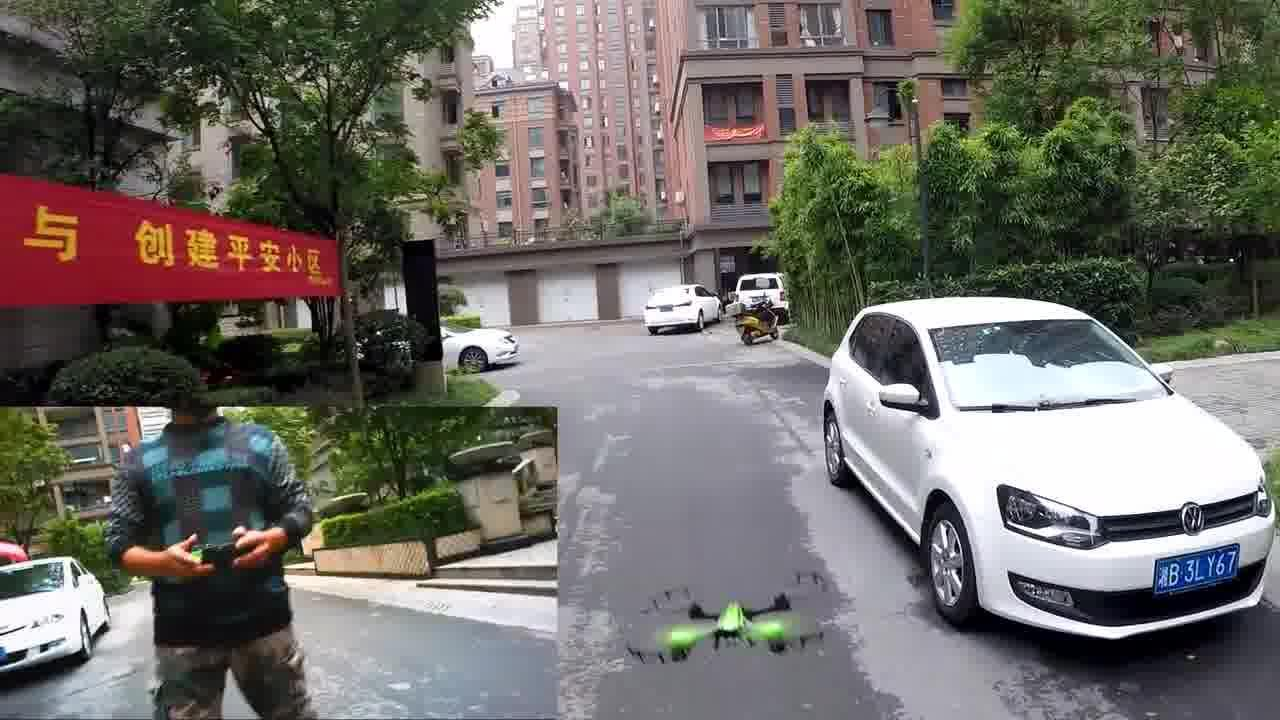drone: (612, 549, 846, 677)
